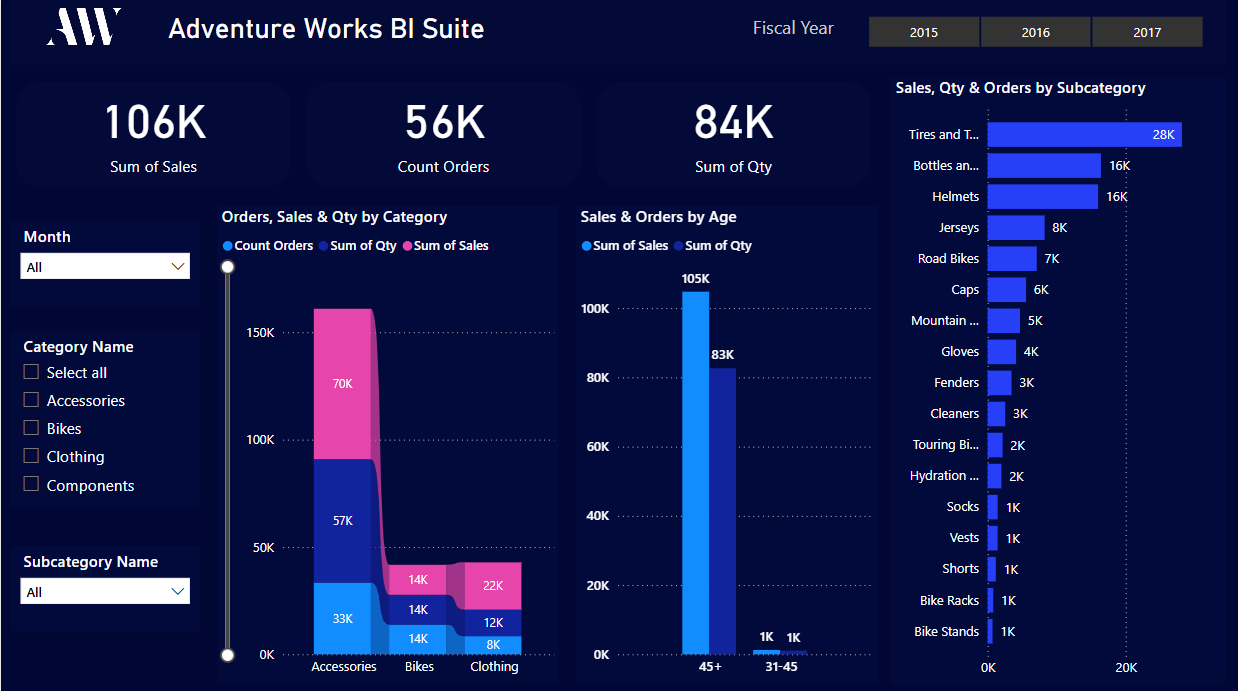

The page's visual inventory and layout, read from the dashboard file:
{"tool":"powerbi","page":{"name":"Orders Info","canvas":[1280,720],"ordinal":1},"visuals":[{"type":"columnChart","title":"Orders, Sales & Qty by Category","fields":{"Category":["Product_Categories.CategoryName"],"Y":["Sales.Count_Orders","Sales.Sum_of_Quantity","Sales.Sum_of_Sales"]},"box":[223.5,213.6,354.4,495.1],"z":0},{"type":"clusteredColumnChart","title":"Sales & Orders by Age","fields":{"Category":["Customers.Age Group"],"Y":["Sales.Sum_of_Sales","Sales.Sum_of_Quantity"]},"box":[594.5,213.6,313,495.1],"z":1000},{"type":"clusteredBarChart","title":"Sales, Qty & Orders by Subcategory","fields":{"Category":["Product_Subcategories.SubcategoryName"],"Y":["Sales.Sum_of_Sales"]},"box":[920.7,79.5,346.1,629.2],"z":2000},{"type":"textbox","box":[10.1,0,1256.4,66.5],"z":3000},{"type":"image","box":[9.9,0,150.7,66.2],"z":4000},{"type":"textbox","box":[160.5,7.2,352.8,52],"z":5000},{"type":"textbox","box":[767.7,10.1,104.1,44.8],"z":6000},{"type":"slicer","fields":{"Values":["Calendar.Date.Variation.Date Hierarchy.Year"]},"box":[871.8,10.1,394.7,44.8],"z":7000},{"type":"cardVisual","fields":{"Data":["Sales.Sum_of_Sales","Sales.Count_Orders","Sales.Sum_of_Quantity"]},"box":[10,79.5,897.5,119.2],"z":8000},{"type":"slicer","fields":{"Values":["Calendar.Date.Variation.Date Hierarchy.Month"]},"box":[9.9,228.5,195.4,89.4],"z":9000},{"type":"slicer","fields":{"Values":["Product_Categories.CategoryName"]},"box":[9.9,342.8,195.4,182.1],"z":10000},{"type":"slicer","fields":{"Values":["Product_Categories.CategoryName"]},"box":[10,565,195,88.3],"z":11000}]}

Visuals, with their boxes in screenshot pixels (x1, y1, x2, y2), scaled from the page's 1280x720 canvas onto the 1238x691 screenshot:
"Orders, Sales & Qty by Category" columnChart: region(216, 205, 559, 680)
"Sales & Orders by Age" clusteredColumnChart: region(575, 205, 878, 680)
"Sales, Qty & Orders by Subcategory" clusteredBarChart: region(890, 76, 1225, 680)
textbox: region(10, 0, 1225, 64)
image: region(10, 0, 155, 64)
textbox: region(155, 7, 496, 57)
textbox: region(743, 10, 843, 53)
slicer - Calendar.Date.Variation.Date Hierarchy.Year: region(843, 10, 1225, 53)
cardVisual - Sales.Sum_of_Sales x Sales.Count_Orders: region(10, 76, 878, 191)
slicer - Calendar.Date.Variation.Date Hierarchy.Month: region(10, 219, 199, 305)
slicer - Product_Categories.CategoryName: region(10, 329, 199, 504)
slicer - Product_Categories.CategoryName: region(10, 542, 198, 627)
